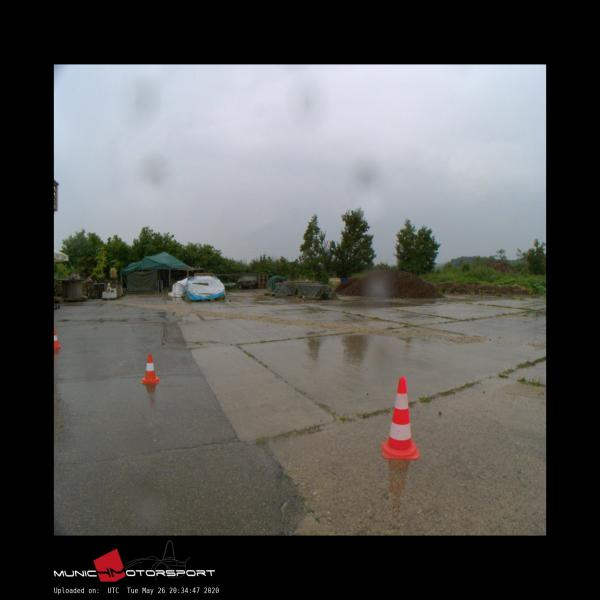large_orange_cone: (381, 376, 419, 460)
orange_cone: (142, 354, 159, 383), (54, 329, 62, 350)
